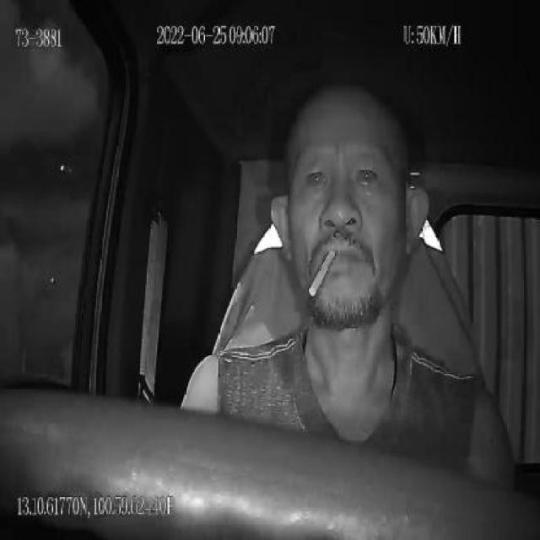smoking: (308, 246, 335, 298)
